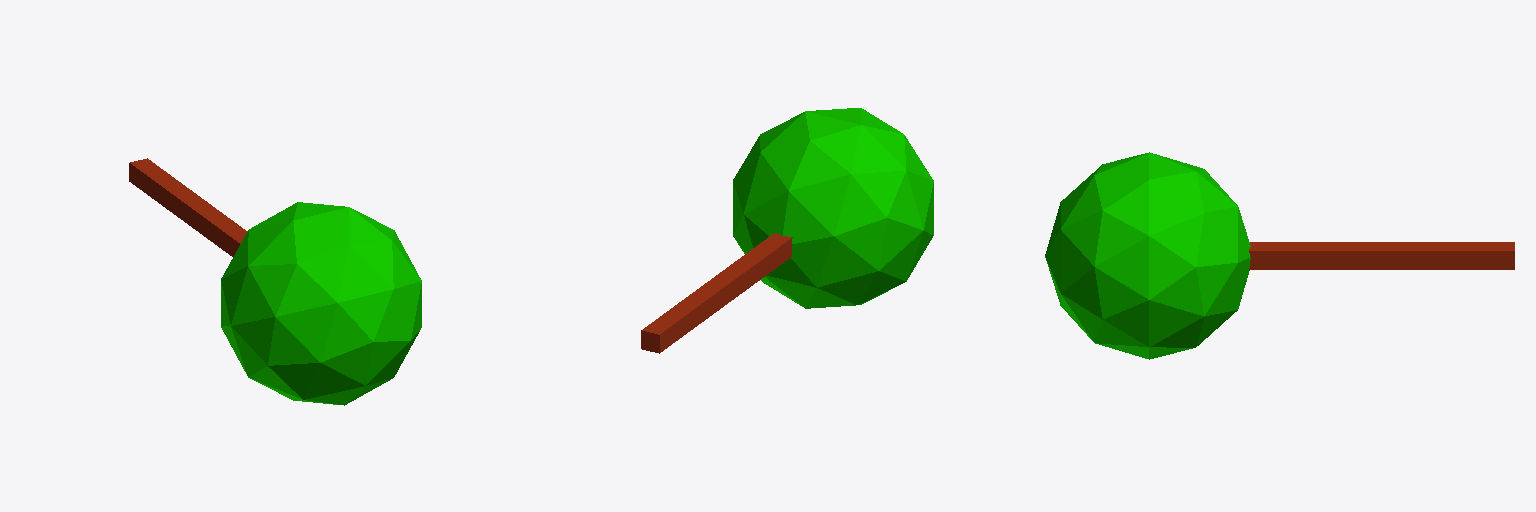
The model's file is tree.obj.
3 renders of one model, left to right at view 1: azimuth 30°, elevation 25°; view 2: azimuth 150°, elevation 25°; view 3: azimuth 270°, elevation 25°, orthographic.
Visible parts, largest first — view 1: Icosphere, Cube; view 2: Icosphere, Cube; view 3: Icosphere, Cube.
Boxes of the visible parts, <box> form: Icosphere: <box>221,202,421,405</box>; Cube: <box>129,158,247,256</box>; Icosphere: <box>733,108,933,308</box>; Cube: <box>641,233,792,353</box>; Icosphere: <box>1045,152,1250,359</box>; Cube: <box>1249,242,1514,269</box>.
Bounding box in the file's own units: 2 × 1.9 × 4.5.